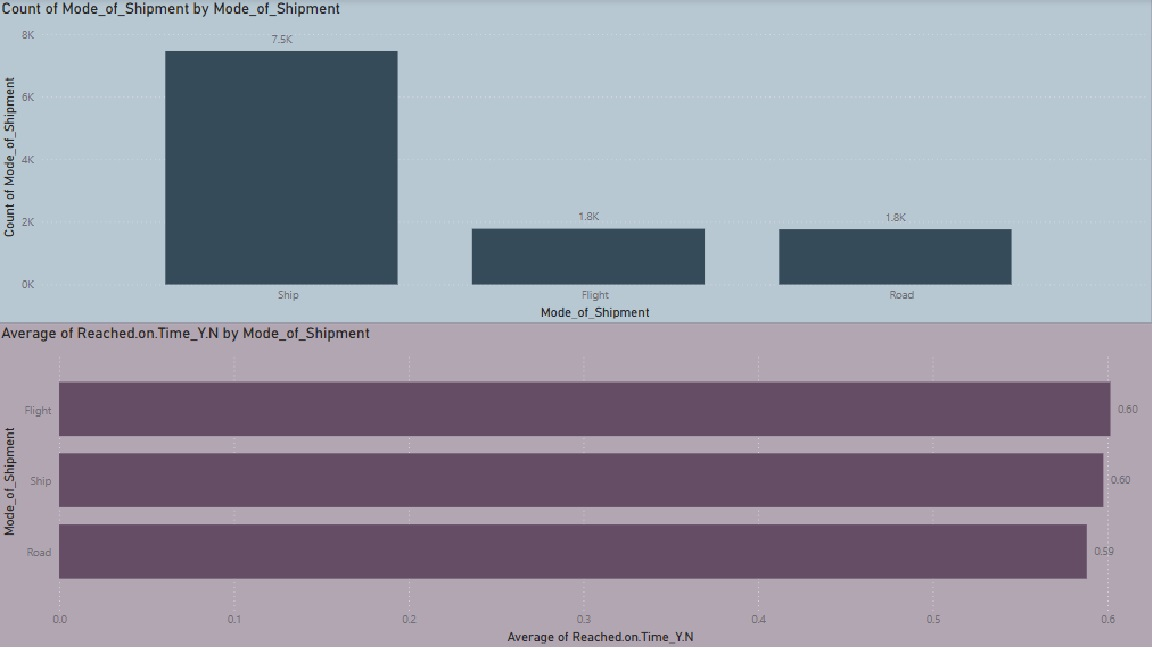

The dashboard page shown, as its layout file describes it:
{"tool":"powerbi","page":{"name":"Shipping Modes","canvas":[1280,720],"ordinal":1},"visuals":[{"type":"columnChart","fields":{"Category":["Train.Mode_of_Shipment"],"Y":["CountNonNull(Train.Mode_of_Shipment)"]},"box":[0,0,1279.4,360.9],"z":0},{"type":"barChart","fields":{"Y":["Avg(Train.Reached.on.Time_Y.N)"],"Category":["Train.Mode_of_Shipment"]},"box":[0,360.9,1279.4,359.1],"z":1000}]}

Visuals, with their boxes in screenshot pixels (x1, y1, x2, y2), scaled from the page's 1280x720 canvas onto the 1152x648 screenshot:
columnChart - Train.Mode_of_Shipment x CountNonNull(Train.Mode_of_Shipment): [0,0,1151,325]
barChart - Avg(Train.Reached.on.Time_Y.N) x Train.Mode_of_Shipment: [0,325,1151,647]
